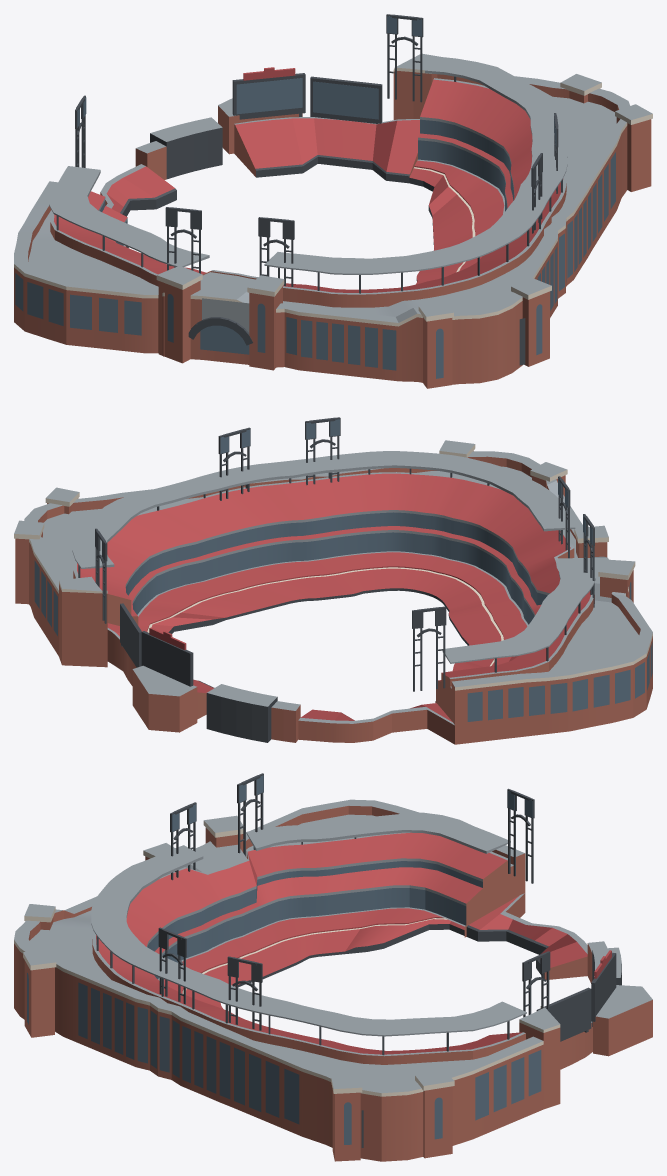
File: stl-busch-stadium.glb
3 renders of one model, top to bottom at view 1: azimuth 30°, elevation 25°; view 2: azimuth 150°, elevation 25°; view 3: azimuth 270°, elevation 25°, orthographic. The views are drawn at different scales.
Visible parts, largest first — view 1: Busch Stadium; view 2: Busch Stadium; view 3: Busch Stadium.
Part boxes in pixels (x1,y1,x2,y2): Busch Stadium: (14, 14, 652, 388); Busch Stadium: (14, 417, 652, 744); Busch Stadium: (14, 773, 652, 1161).
Bounding box in the file's own units: 295 × 60 × 262.
